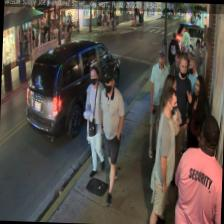person: (174, 113, 223, 224), (96, 70, 125, 206), (149, 86, 177, 224), (164, 53, 192, 185), (182, 73, 211, 196), (154, 74, 182, 192), (80, 64, 106, 178), (147, 49, 169, 158)
